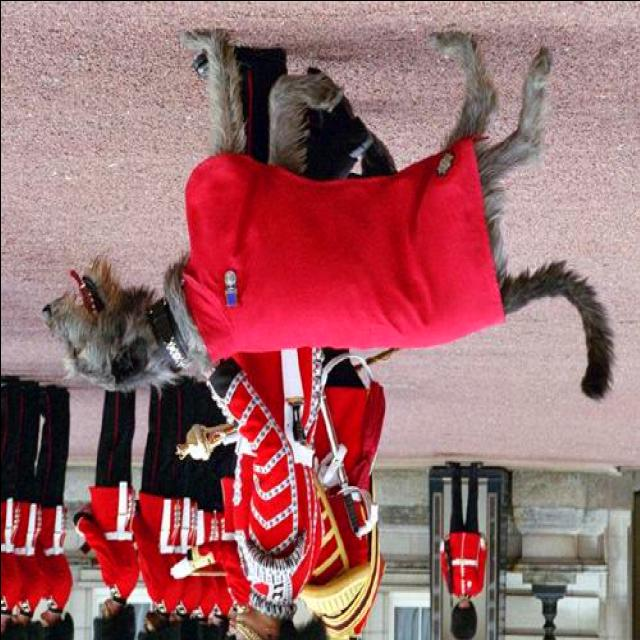irish_wolfhound: (39, 28, 610, 403)
